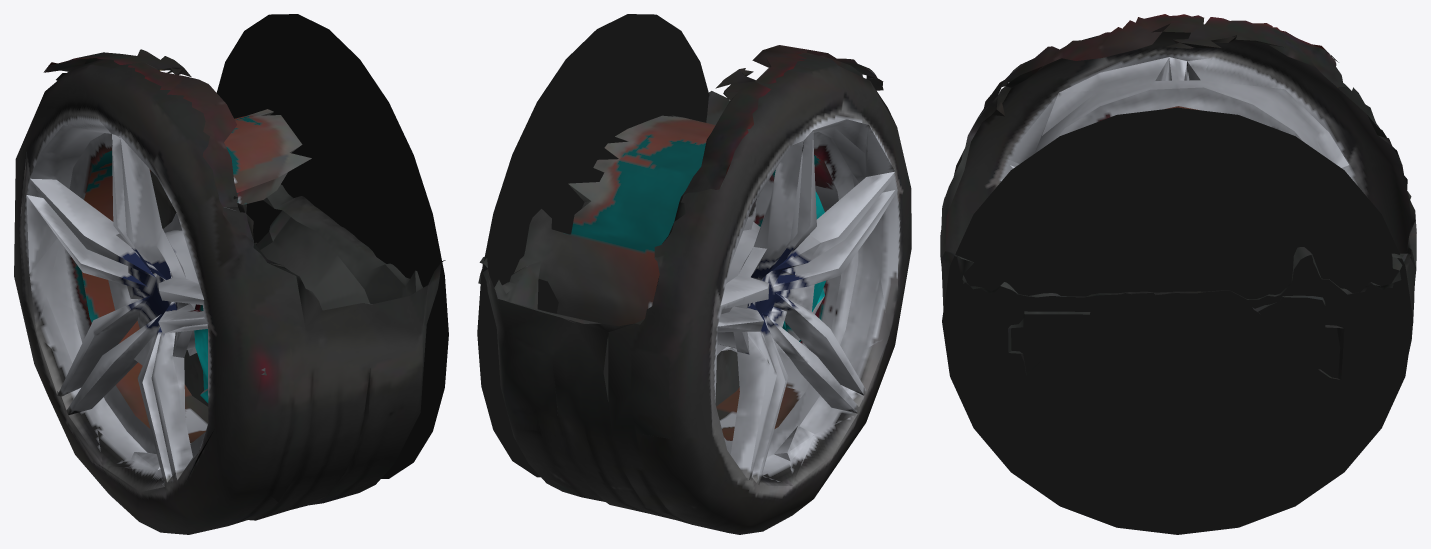
File: red_sports_fictional_wheel_FL.glb
The picture shows the model from 3 angles, left to right: view 1: azimuth 30°, elevation 25°; view 2: azimuth 150°, elevation 25°; view 3: azimuth 270°, elevation 25°; orthographic projection.
Parts seen in each view (by area): view 1: red_sports_fictional_wheel_FL; view 2: red_sports_fictional_wheel_FL; view 3: red_sports_fictional_wheel_FL.
Part boxes in pixels (x1=…): red_sports_fictional_wheel_FL: x1=14, y1=14, x2=448, y2=534; red_sports_fictional_wheel_FL: x1=477, y1=14, x2=911, y2=534; red_sports_fictional_wheel_FL: x1=940, y1=14, x2=1416, y2=534.
Bounding box in the file's own units: 0.3888 × 0.7604 × 0.7467.
1 material, 1 textured.
